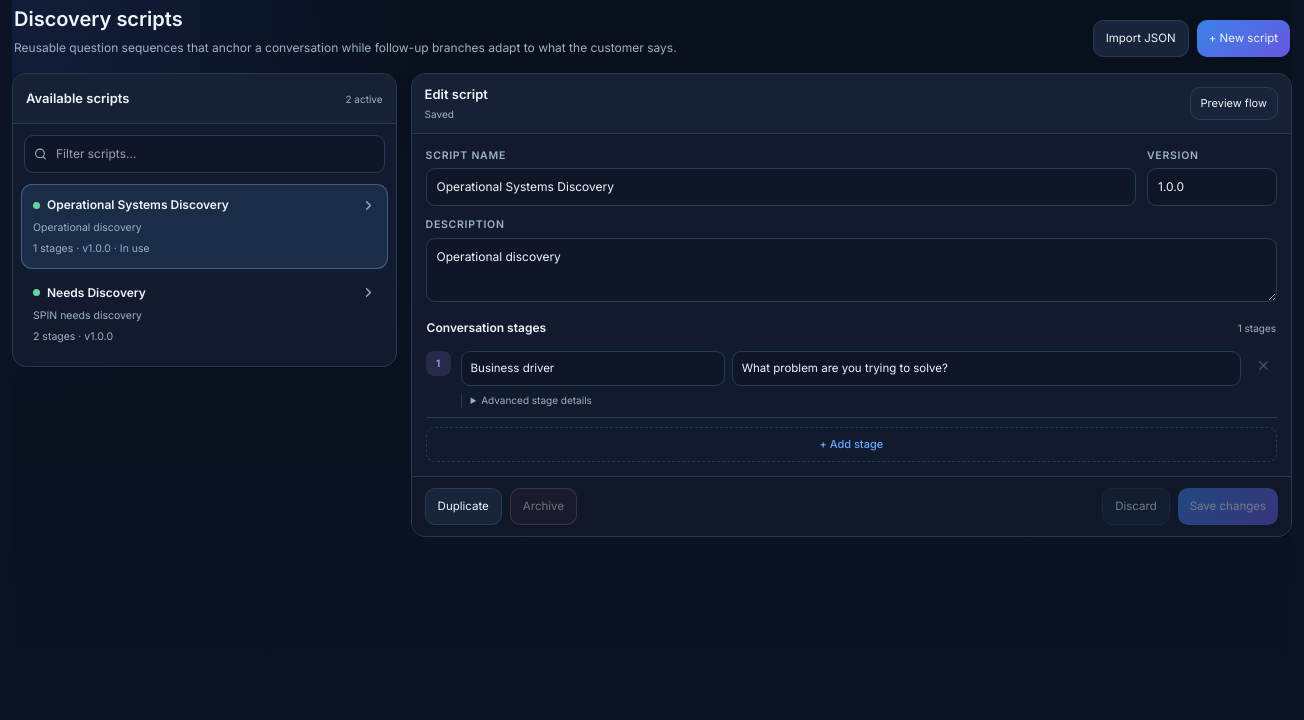
Test: ScriptsView › lists scripts and opens the selected script in the editor
The image size is (1304, 720).
Check: the text "2 active" is shown, box [345,92,383,107]
Check: the field showing "Operational Systems Discovery" is shown, box [426,168,1136,206]
Click the button "Needs Discovery SPIN needs discovery 2 stages · v1.0.0": (96, 292) [21,272,388,357]
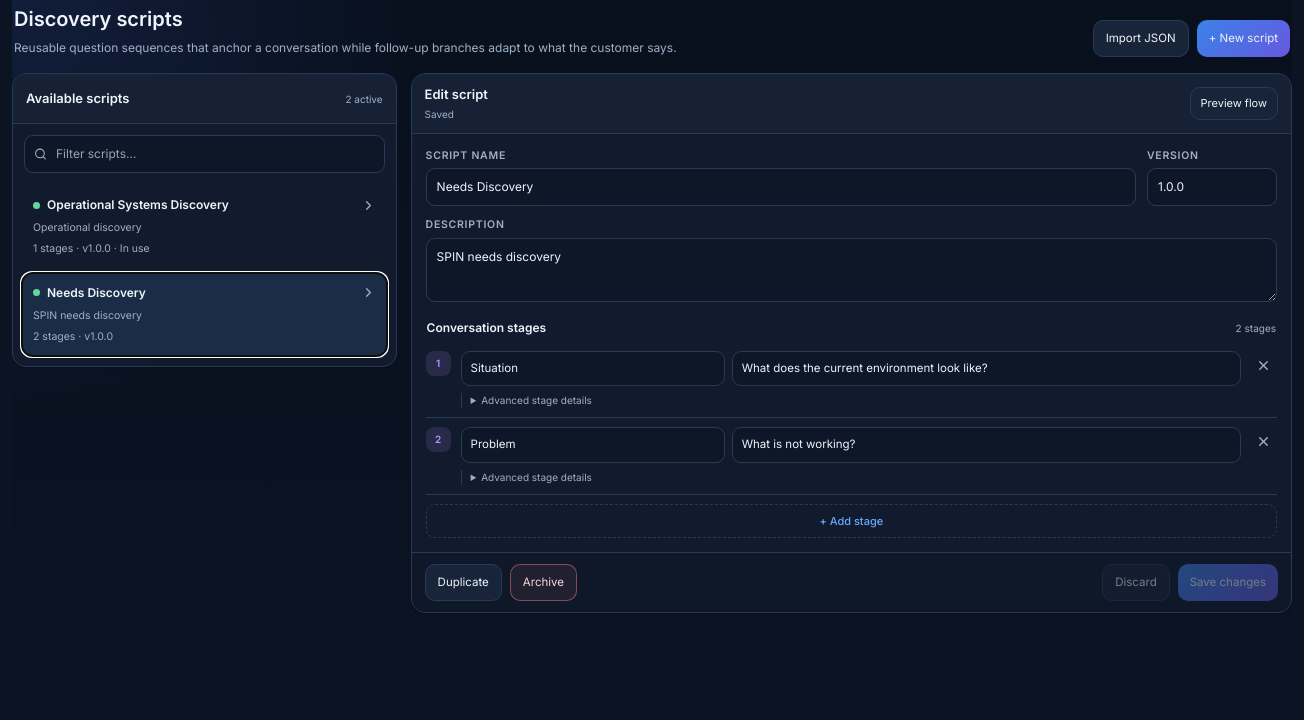
Check: the field showing "Needs Discovery" is shown, box [426,168,1136,206]
Check: the text "2 stages" is shown, box [1236,320,1276,336]
Check: the field showing "What is not working?" is shown, box [732,427,1241,463]
